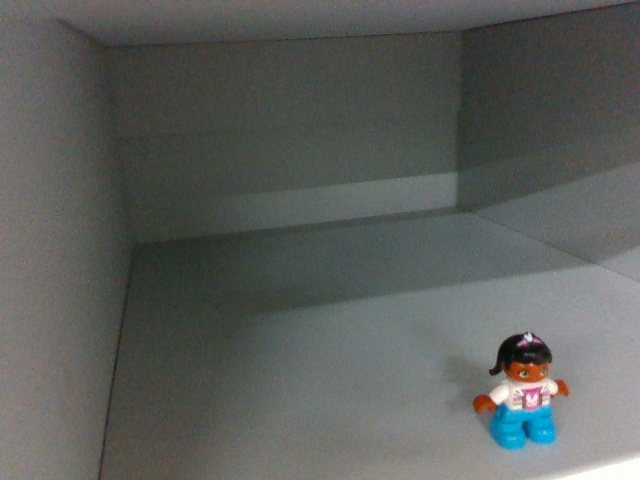people: (476, 329, 571, 451)
